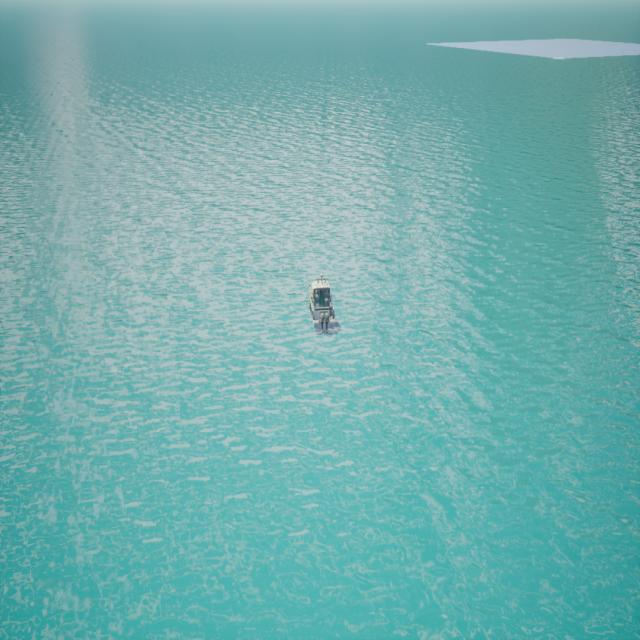ship: (308, 277, 334, 333)
